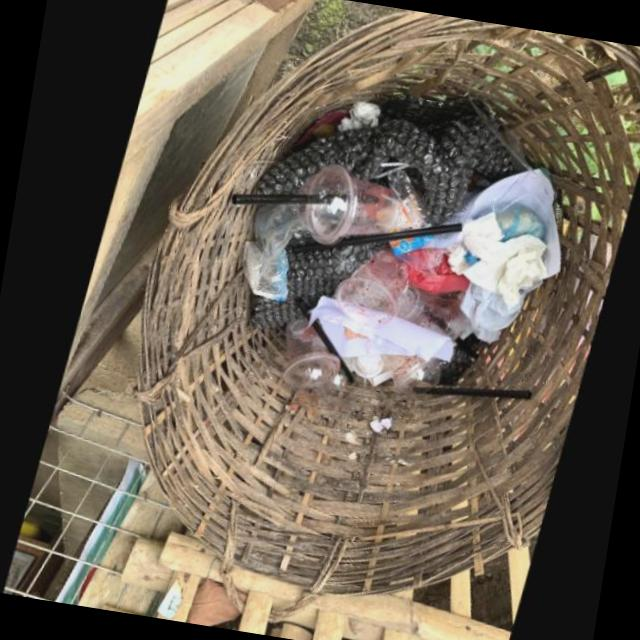giay: (419, 169, 557, 278), (304, 296, 452, 363)
hop_nhua: (293, 162, 399, 243), (332, 248, 406, 327), (280, 320, 338, 396), (394, 285, 462, 340), (379, 354, 439, 396)
ong_hut_nhua: (288, 222, 459, 254), (294, 295, 353, 383), (411, 387, 530, 401), (228, 193, 305, 204)
tui_ni_long: (241, 204, 300, 301)
